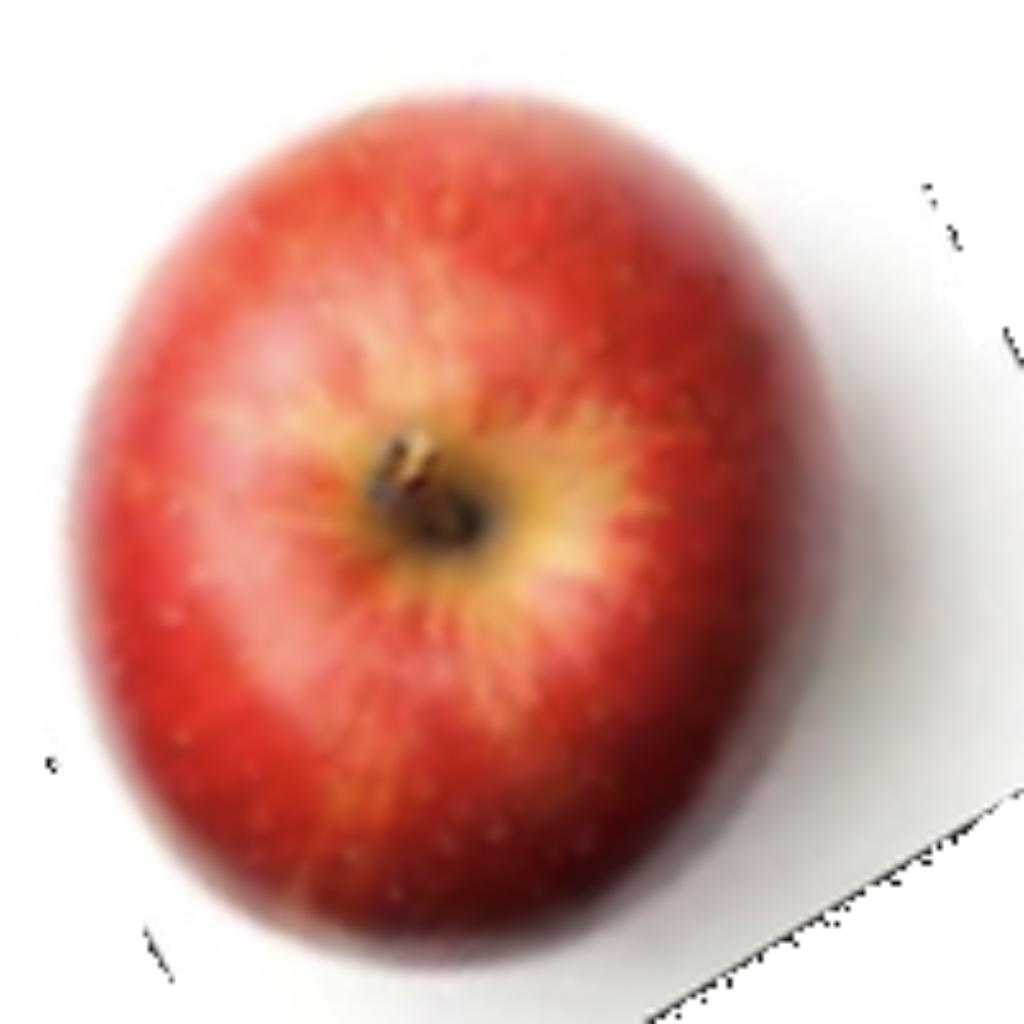apple: (46, 77, 993, 1019)
